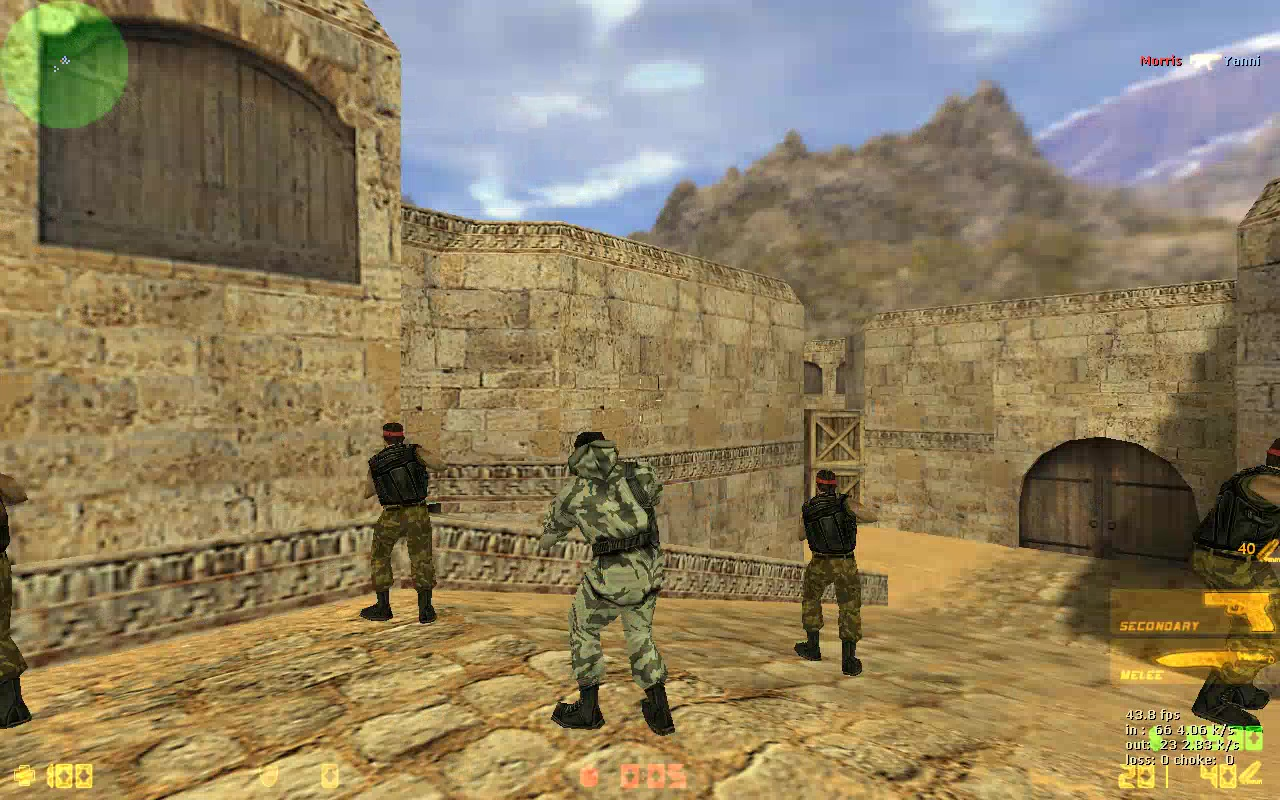terr1: (1189, 440, 1280, 733), (359, 421, 440, 621), (796, 468, 868, 676)
terr2: (540, 430, 683, 739)
